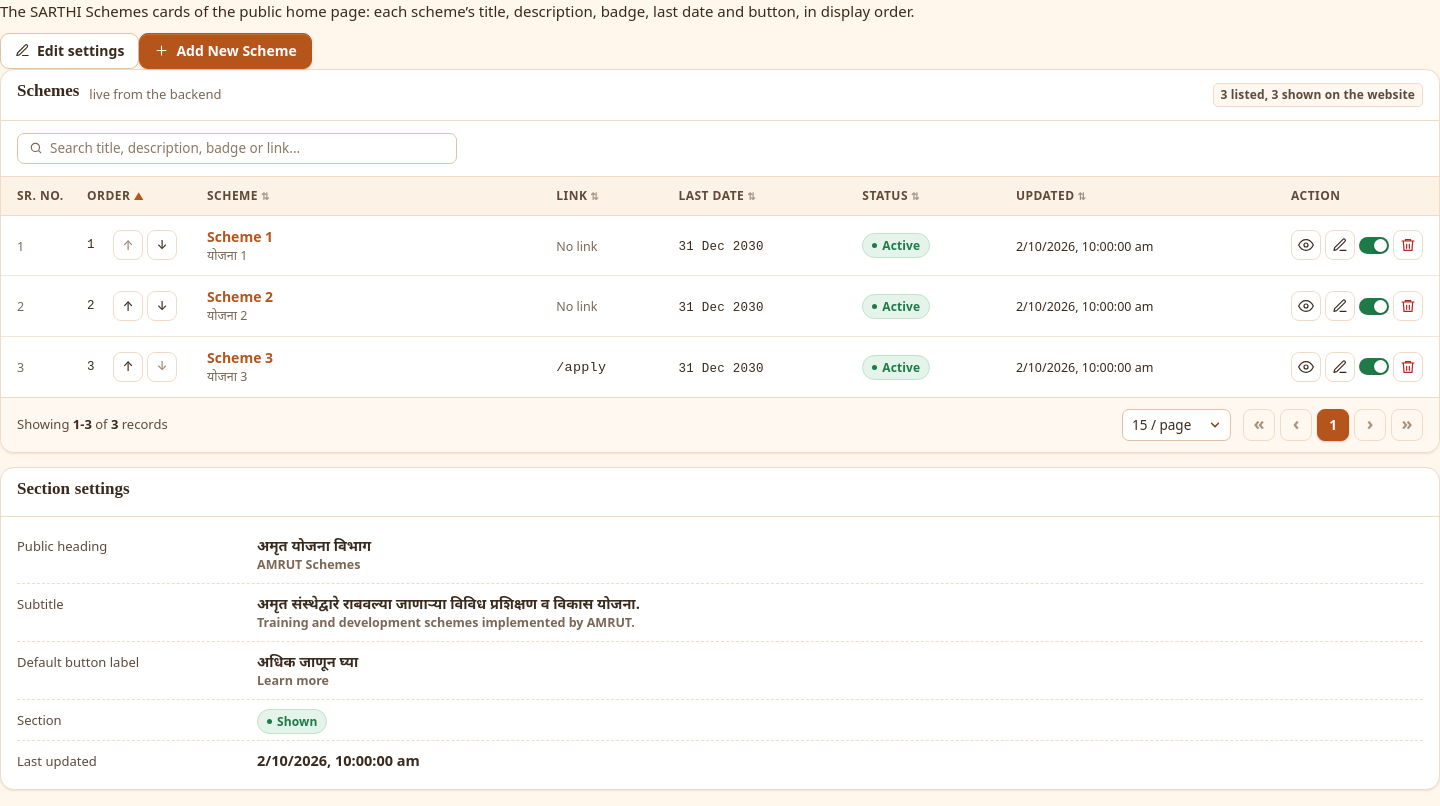
it: AMRUT Schemes list › searches titles, descriptions, badges and links in both languages
expect the text "Scheme 1" is shown: met, box [207,226,273,246]
Type "वर्णन 1" into the field with placeholder "Search title, description, badge or link..." at (237, 148), box [17,132,457,164]
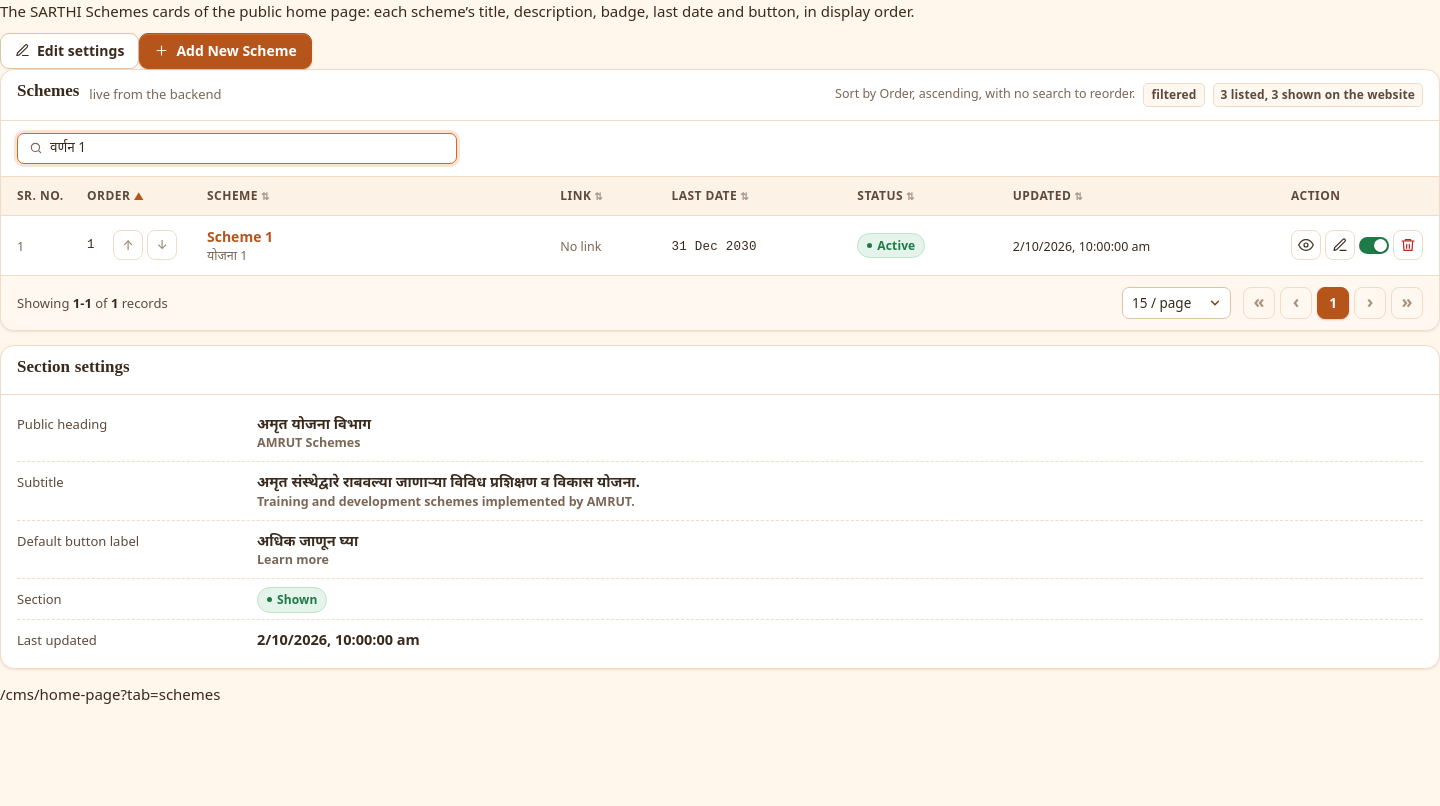
expect the text "filtered" is shown: met, box [1143,82,1204,106]
expect the text "Showing 1-1 of 1 records" is shown: met, box [17,294,168,312]
Replace the text in the field with placeholder "Search title, description, badge or link..." with "new" at (237, 148), box [17,132,457,164]
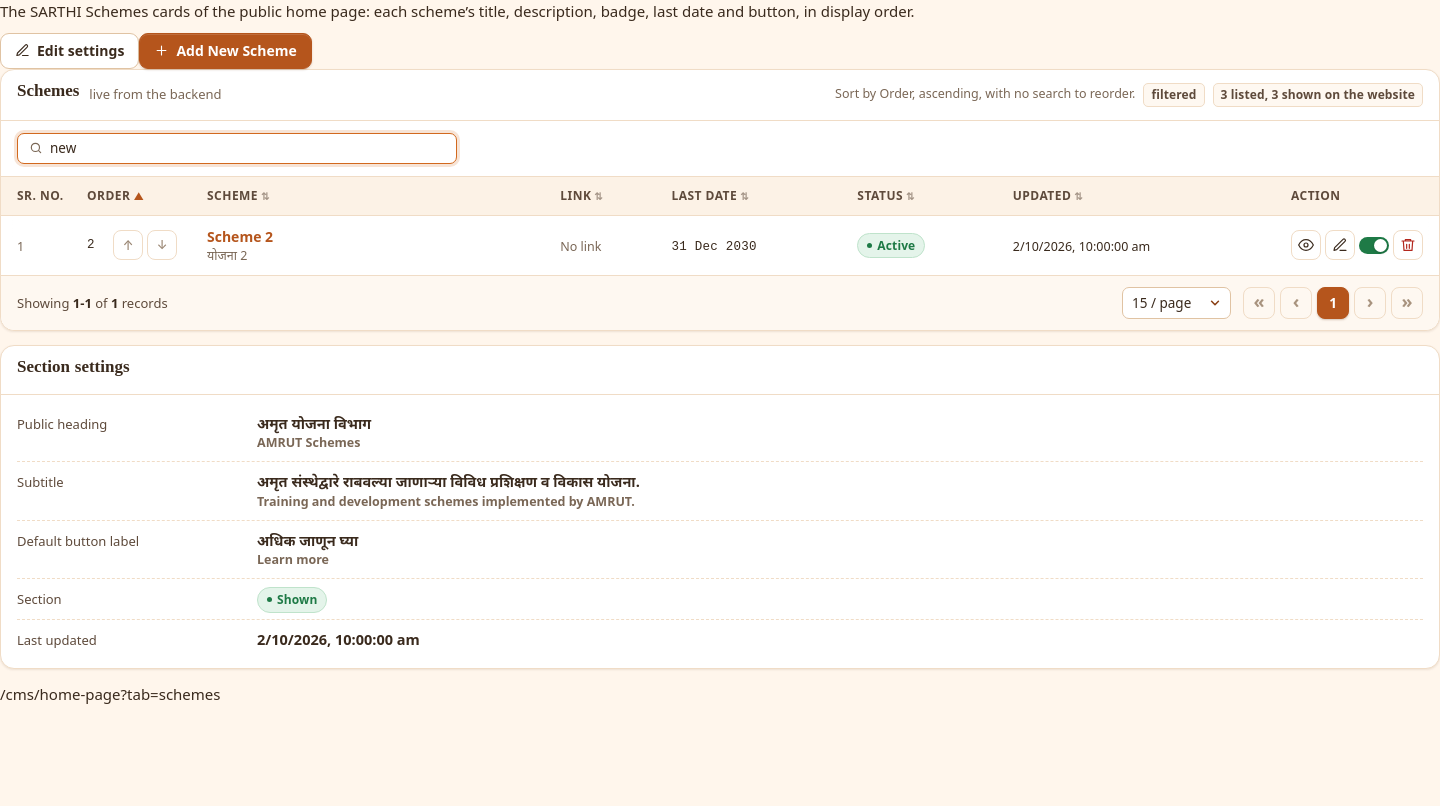
Replace the text in the field with placeholder "Search title, description, badge or link..." with "/apply" at (237, 148), box [17,132,457,164]
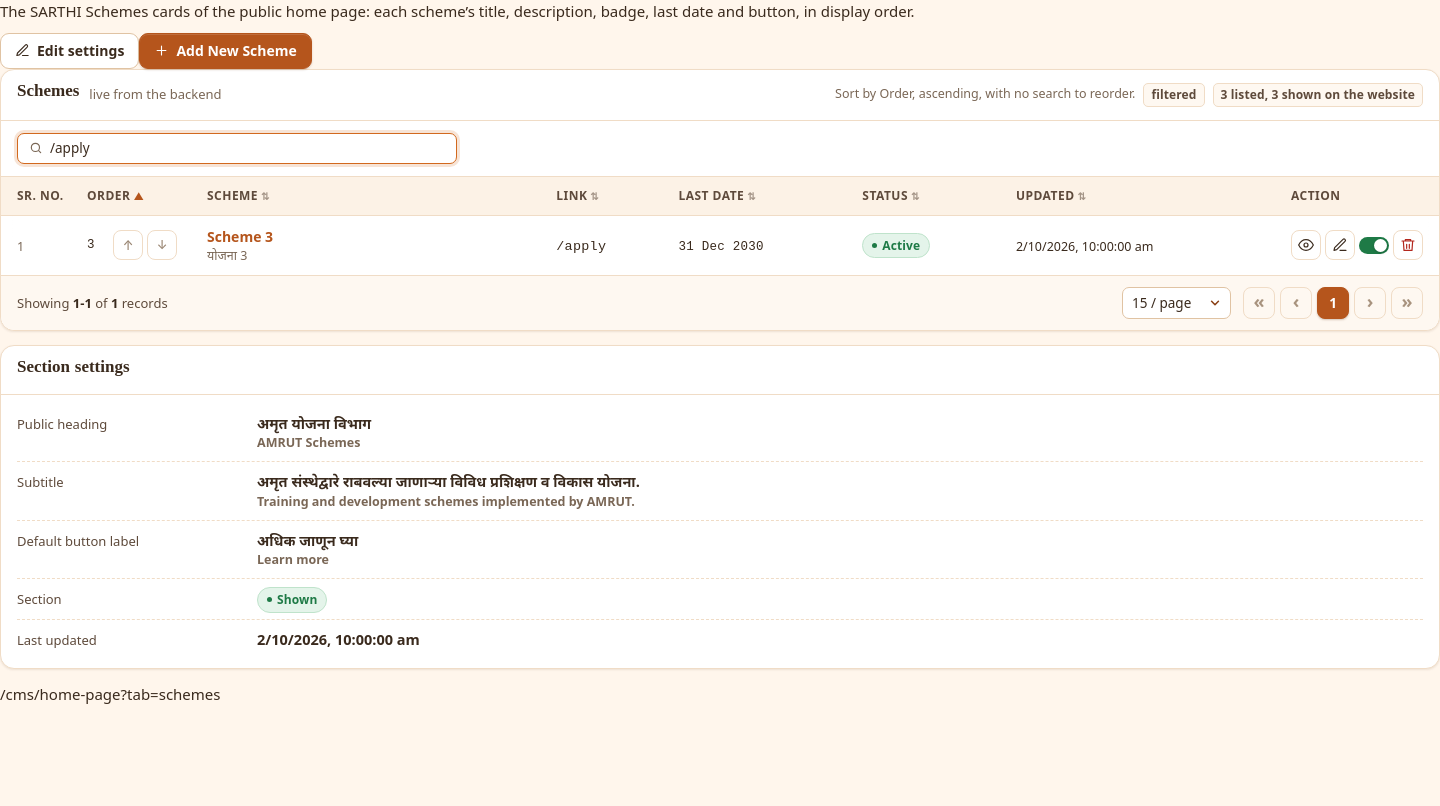
Replace the text in the field with placeholder "Search title, description, badge or link..." with "nothing like it" at (237, 148), box [17,132,457,164]
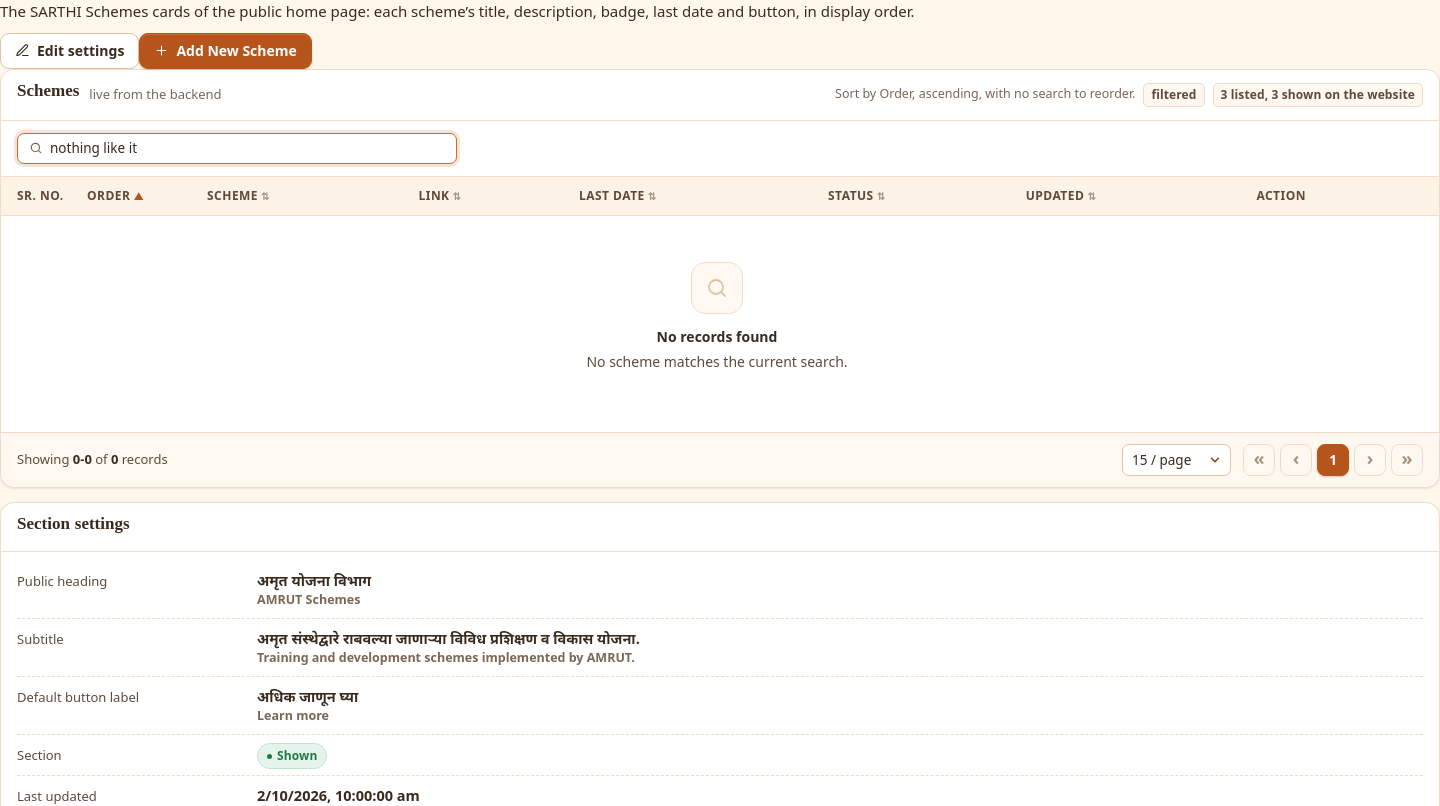
expect the text "No records found" is shown: met, box [657,326,777,346]
expect the text "No scheme matches the current search." is shown: met, box [586,352,848,370]
